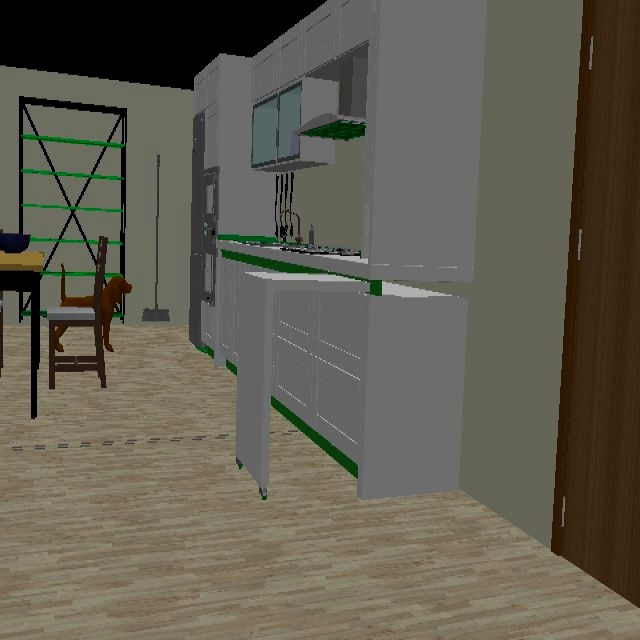cabinet: (195, 0, 379, 234), (271, 292, 370, 463)
chair: (48, 237, 108, 388)
fridge: (189, 113, 205, 346)
microwave: (205, 170, 218, 227)
oven: (202, 227, 216, 305)
sink: (281, 210, 302, 247), (250, 240, 292, 248)
stove: (289, 245, 360, 257)
table: (0, 250, 44, 418)
